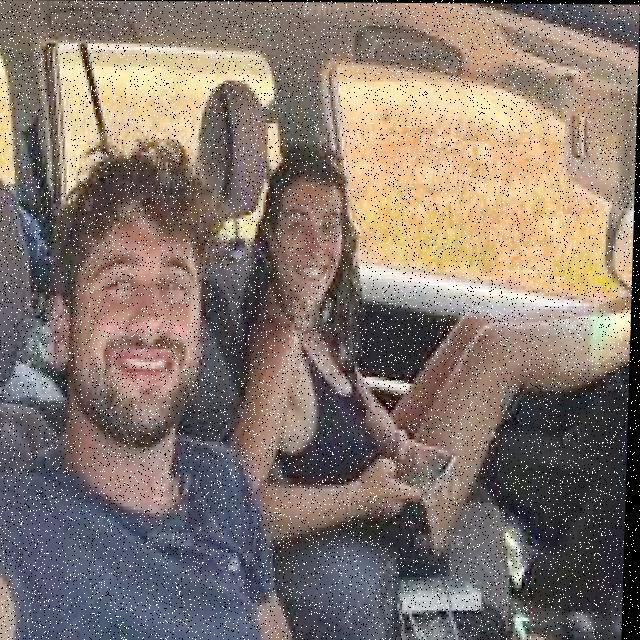noSeatbelt: (0, 371, 319, 640)
